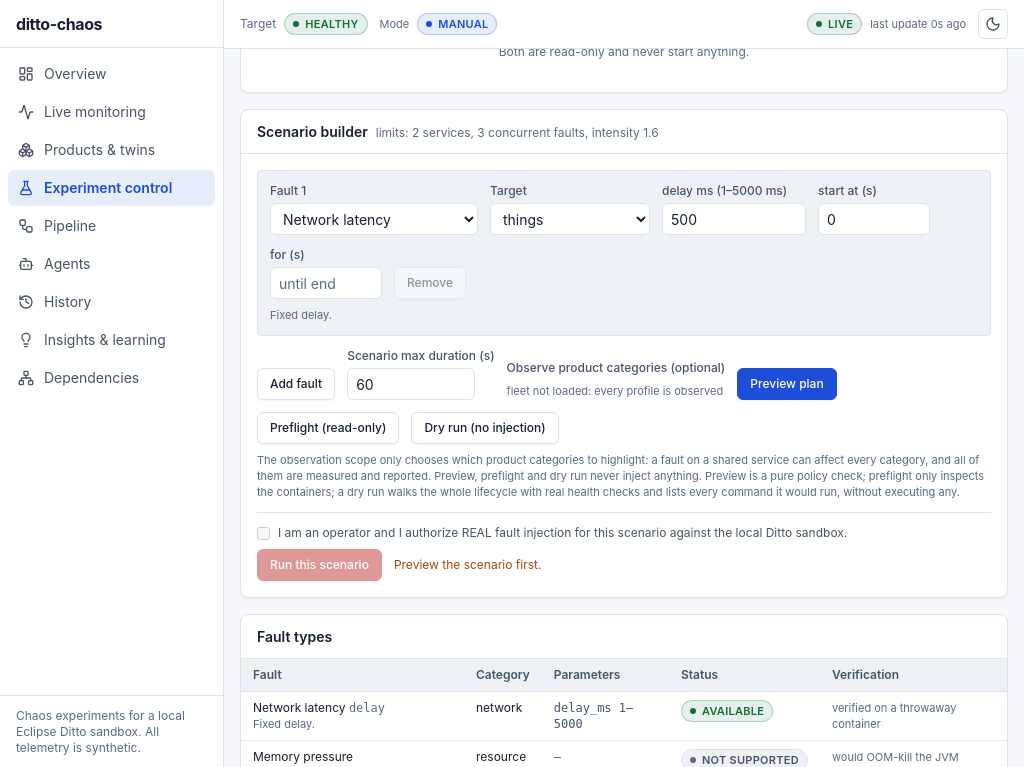
Scenario: Experiment control › shows policy errors from the preview and keeps the run disabled
The width and height of the screenshot is (1024, 767).
(page scrolled)
Click the button "Preview plan" at (787, 384), box [737, 368, 837, 400]
(page scrolled)
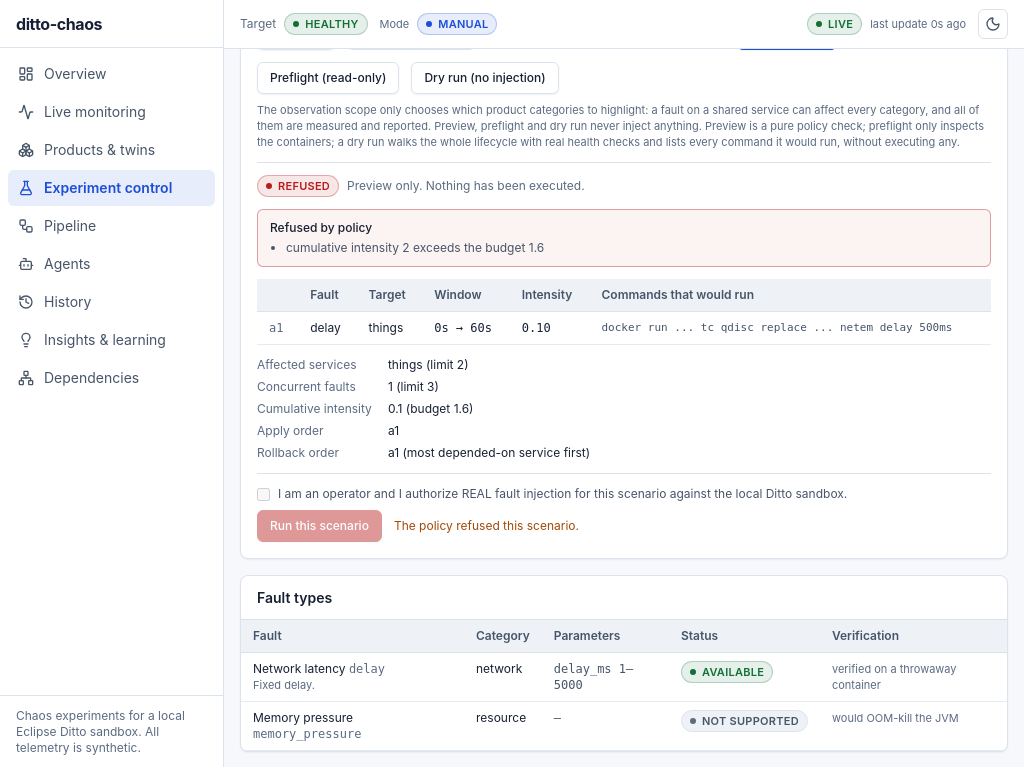
Expected: the button "Run this scenario" is disabled, [257, 510, 382, 542]
Expected: the text "Refused by policy" is shown, [270, 220, 372, 235]
Expected: the list item "cumulative intensity 2 exceeds the budget 1.6" is shown, [286, 240, 544, 255]
